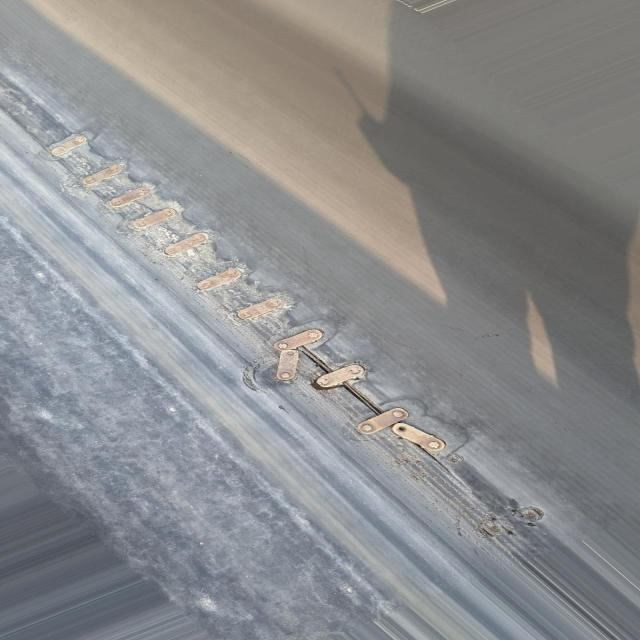patch work: (20, 109, 587, 567)
